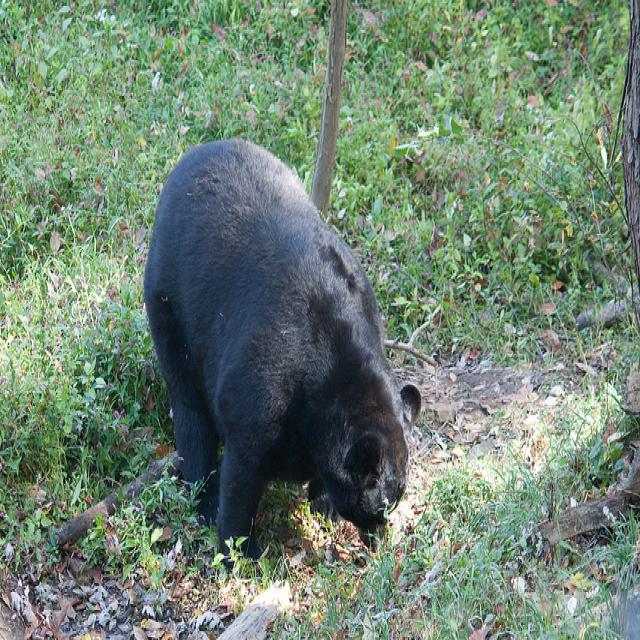Bear: (139, 131, 438, 561)
